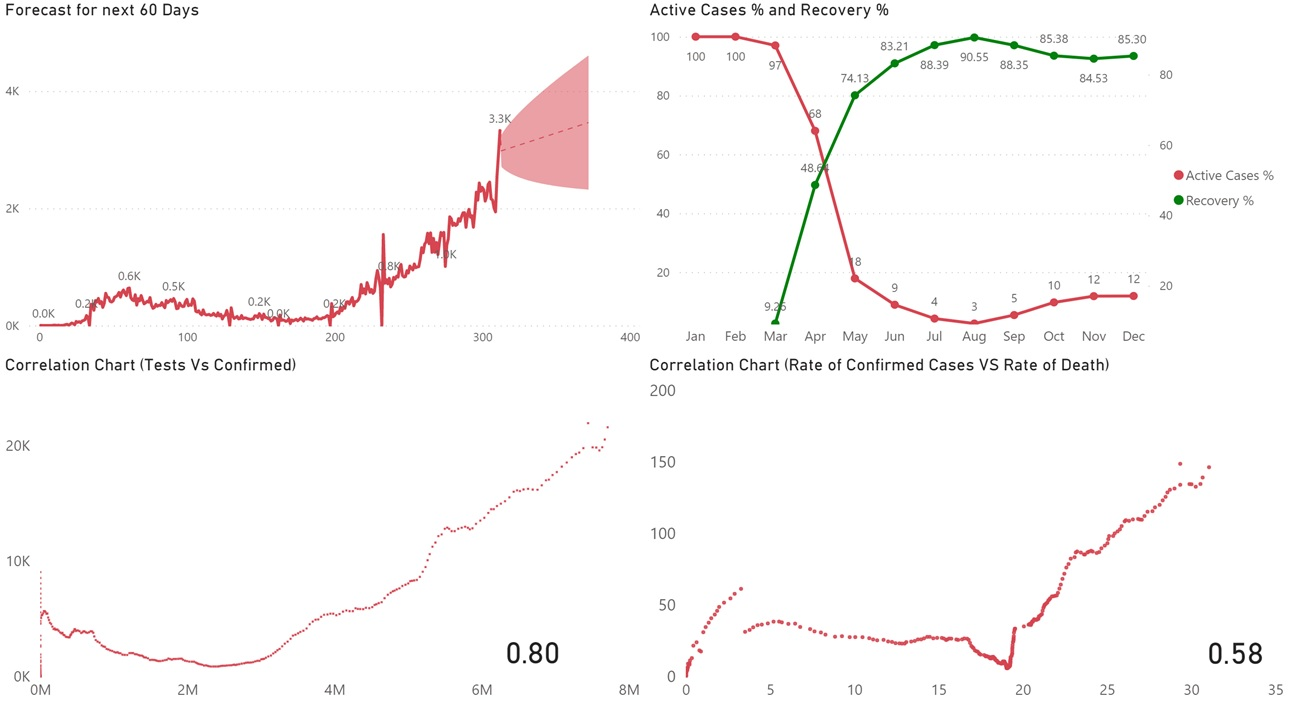

Layout of this report page (visuals, bound fields, positions):
{"tool":"powerbi","page":{"name":"Page 3","canvas":[1280,720],"ordinal":2},"visuals":[{"type":"scatterChart","title":"Correlation Chart (Rate of Confirmed Cases VS Rate of Death)","fields":{"X":["Sum(Ontario.ratedeaths)"],"Category":["Ontario.Index"],"Y":["Sum(Ontario.rateactive)"]},"box":[640.3,360.2,639.4,360.2],"z":0},{"type":"lineChart","title":"Active Cases % and Recovery %","fields":{"Category":["Ontario.Monthh"],"Y2":["Avg(Ontario.percentrecover)"],"Y":["Avg(Ontario.percentactive)"]},"box":[640.3,0,639.4,360.2],"z":1000},{"type":"scatterChart","title":"Correlation Chart (Tests Vs Confirmed)","fields":{"X":["Sum(Ontario.numtests)"],"Category":["Ontario.Index"],"Y":["Sum(Ontario.numactive)"]},"box":[0,360.2,640.3,360.2],"z":2000},{"type":"card","fields":{"Values":["Ontario.Correlation Coefficient"]},"box":[473.8,639.4,110.1,41.4],"z":3000},{"type":"card","fields":{"Values":["Ontario.Corr_death-tests"]},"box":[1184.6,639.4,83.7,42.3],"z":6001},{"type":"lineChart","title":"Forecast for next 60 Days","fields":{"Y":["Sum(Ontario.numtoday)"],"Category":["Ontario.Index"]},"box":[0,0,640.3,360.2],"z":6002}]}

Visuals, with their boxes in screenshot pixels (x1, y1, x2, y2), scaled from the page's 1280x720 canvas onto the 1289x720 screenshot:
"Correlation Chart (Rate of Confirmed Cases VS Rate of Death)" scatterChart: region(645, 360, 1288, 719)
"Active Cases % and Recovery %" lineChart: region(645, 0, 1288, 360)
"Correlation Chart (Tests Vs Confirmed)" scatterChart: region(0, 360, 645, 719)
card - Ontario.Correlation Coefficient: region(477, 639, 588, 681)
card - Ontario.Corr_death-tests: region(1193, 639, 1277, 682)
"Forecast for next 60 Days" lineChart: region(0, 0, 645, 360)
